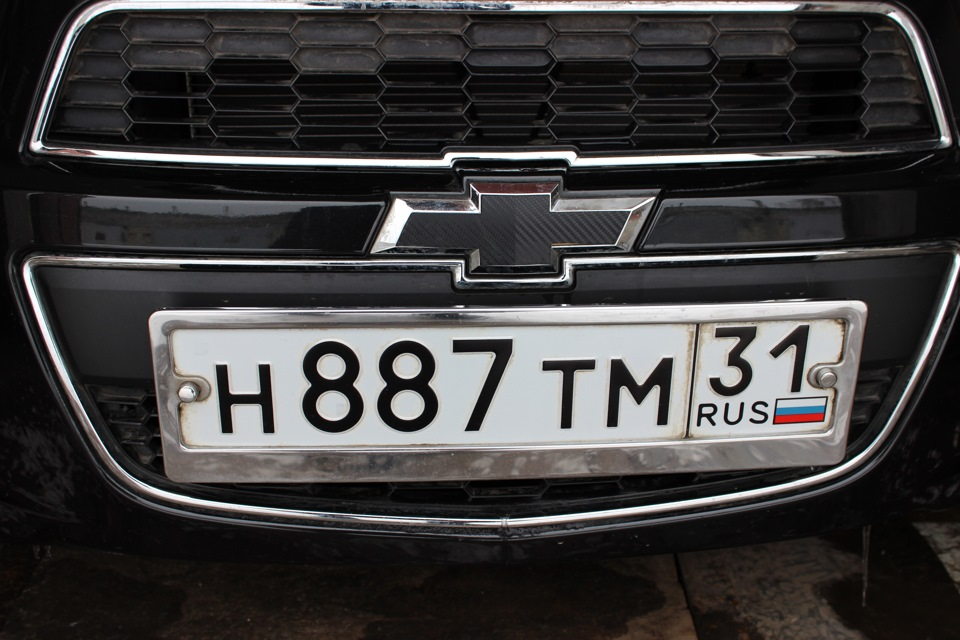number_plate: (175, 308, 854, 455)
